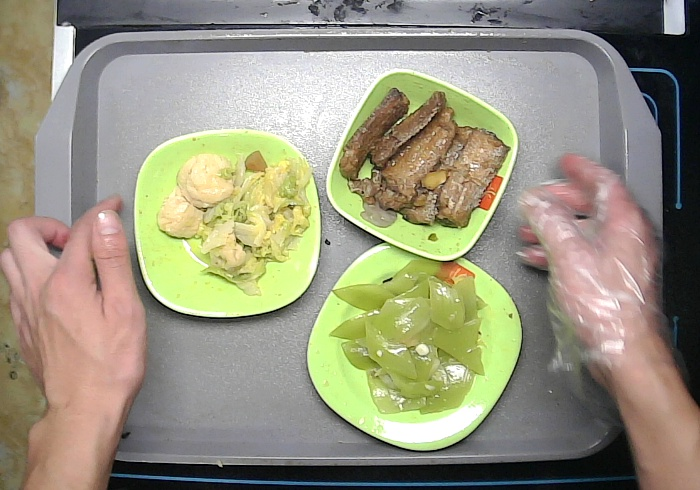SHKJ-Lv_Se_Cai_Die: (133, 129, 322, 317)
SHKJ-Lv_Se_Si_Fang_Cai_Die: (307, 241, 521, 451)
SHKJ-Lv_Se_Xiao_Fang_Die: (326, 69, 518, 260)
